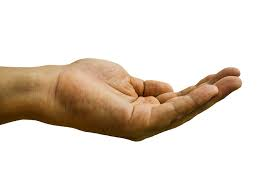hand: (51, 45, 246, 149)
